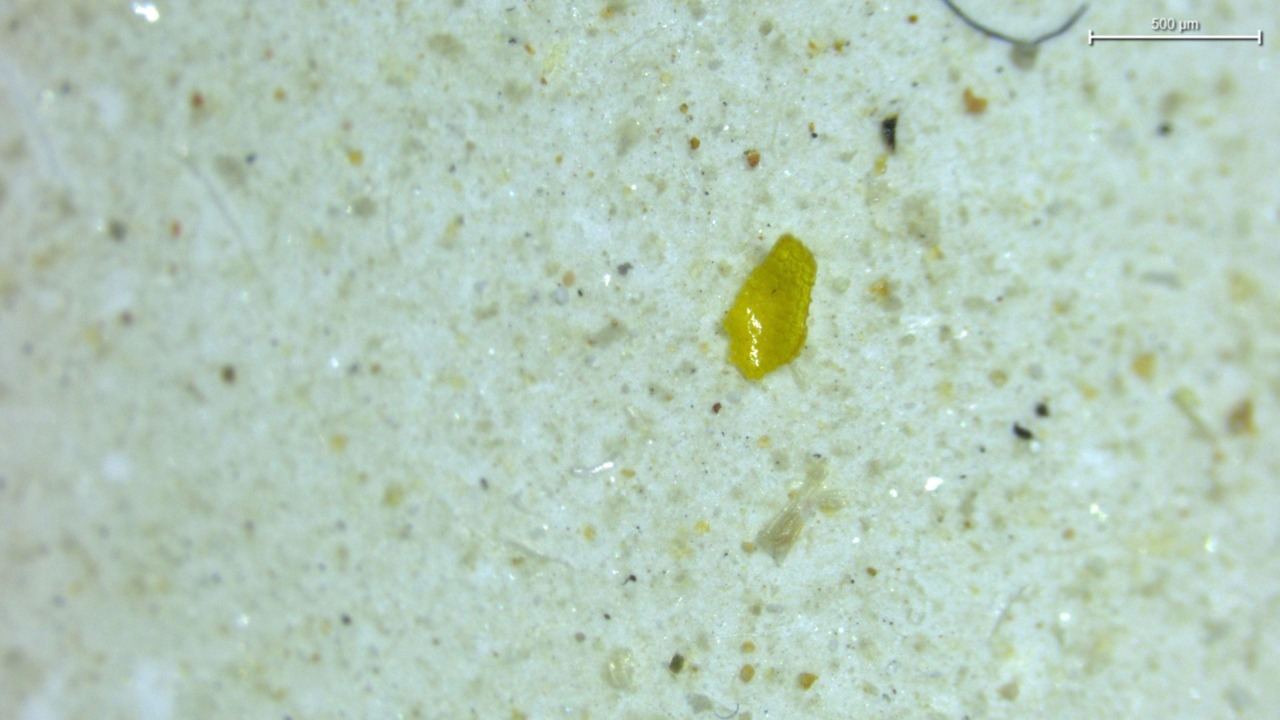microplastic_fragment: (723, 235, 816, 378)
